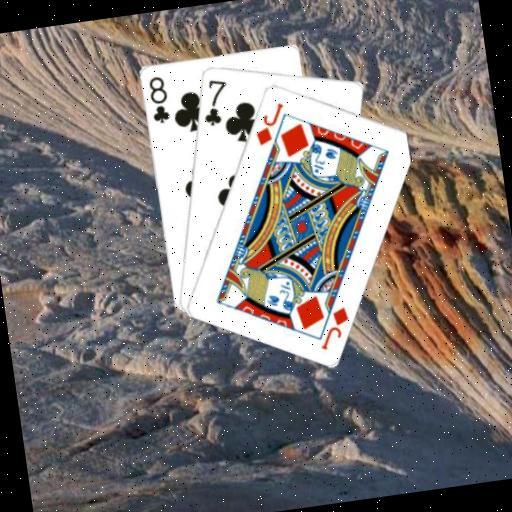7C: (196, 75, 233, 129)
8C: (144, 73, 172, 126)
JD: (248, 98, 290, 148), (312, 303, 354, 353)
